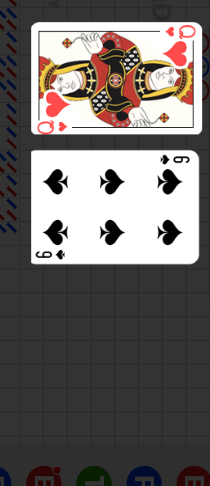6S: (157, 154, 191, 167), (34, 248, 67, 260)
